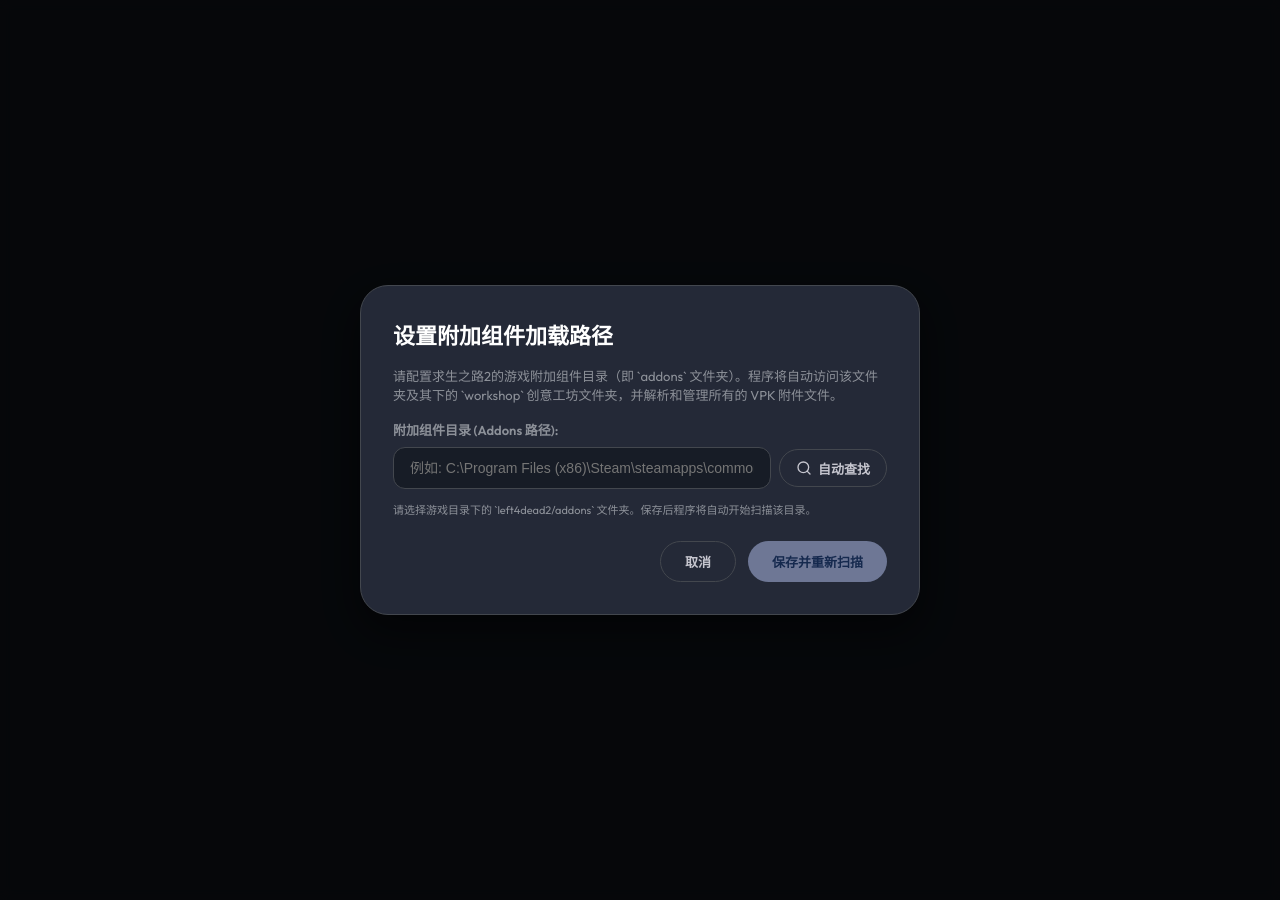
SettingsModal › handles auto detect path in SettingsModal
Step 1. Click the button "自动查找" → (833, 468), box [779,449,887,487]
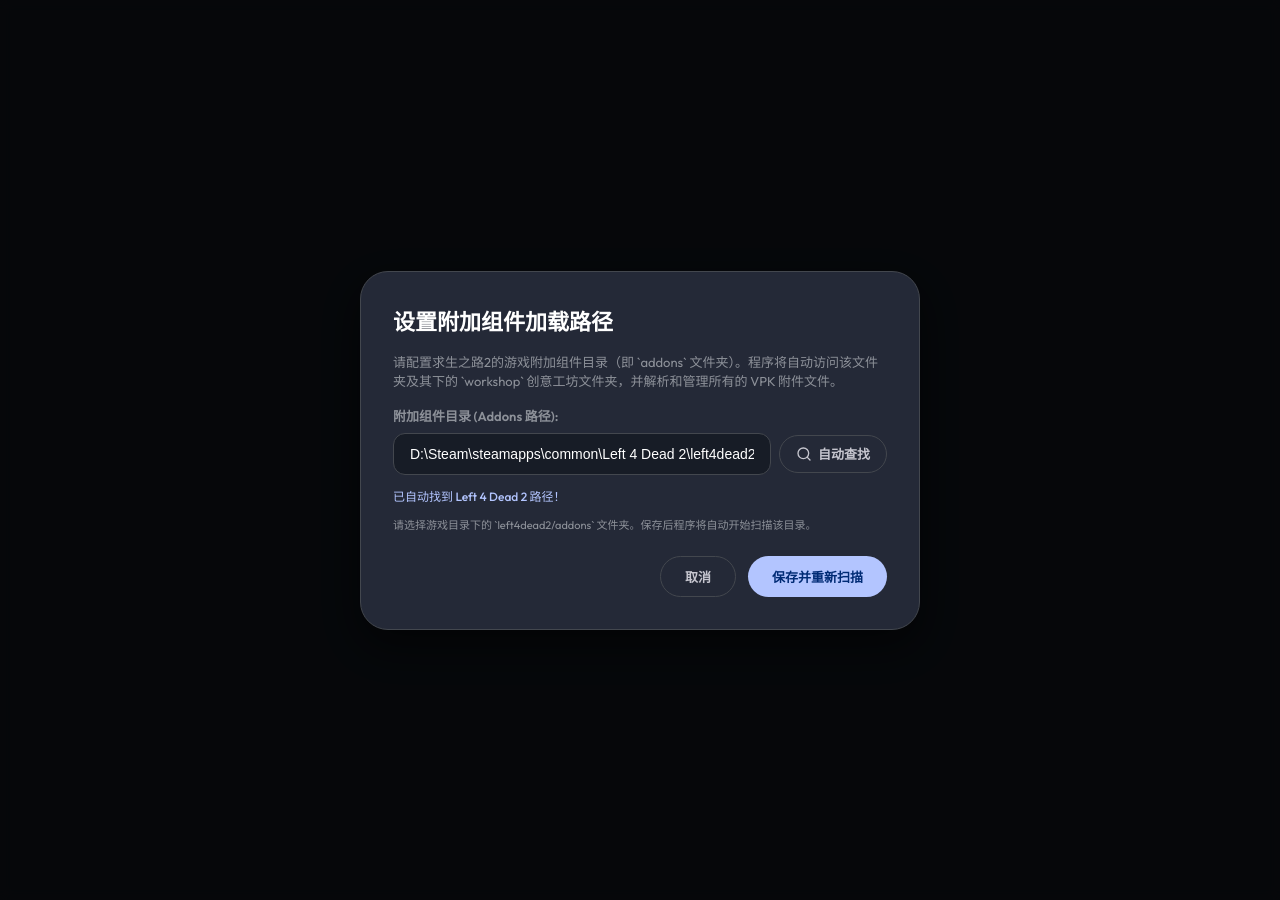
Expected: the field showing "D:\\Steam\\steamapps\\common\\Left 4 Dead 2\\left4dead2\\addons" holds "D:\\Steam\\steamapps\\common\\Left 4 Dead 2\\left4dead2\\addons", [393,432,771,474]
Expected: the text "已自动找到 Left 4 Dead 2 路径！" is shown, [393,488,566,504]
